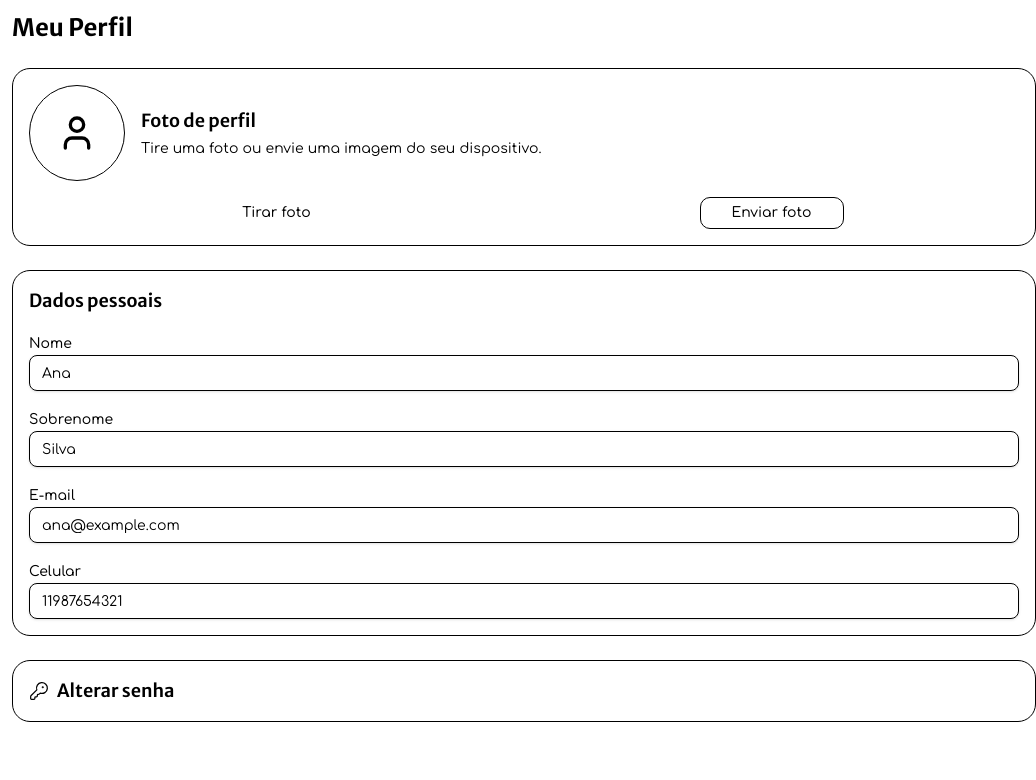
ProfileClient › shows one shared Save when personal data is dirty
Replace the text in the field labelled "Nome" with "Ana Paula" at (524, 373), box [29,355,1019,391]
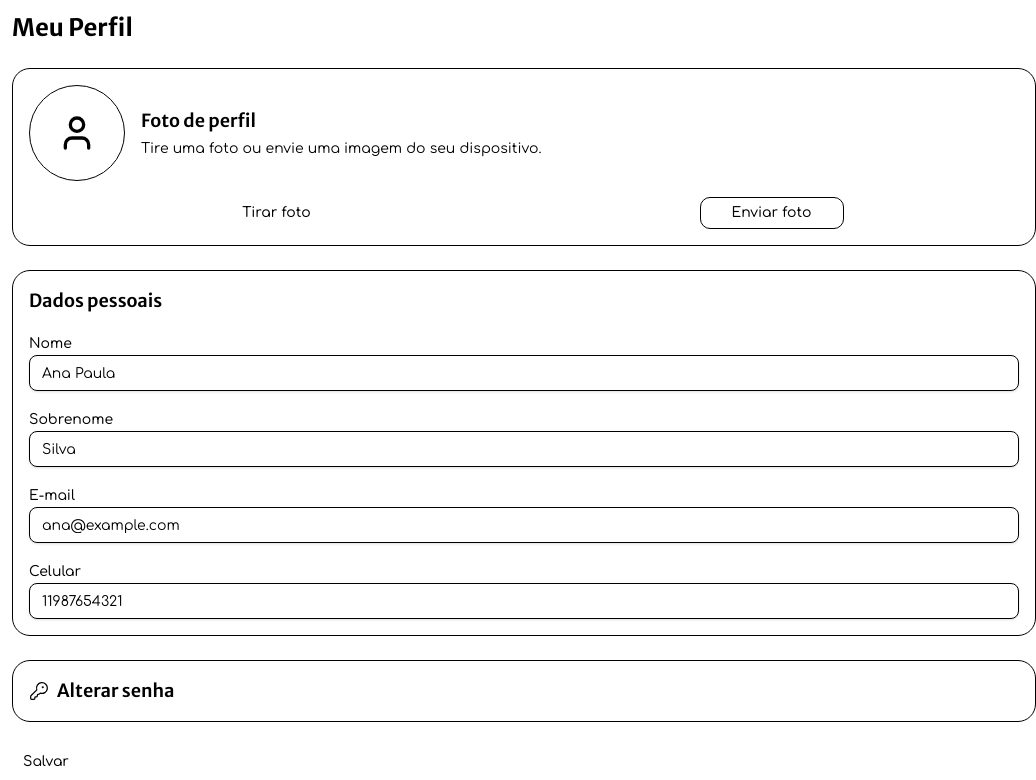
Now the button "Salvar" is shown, box [12,746,80,778]
